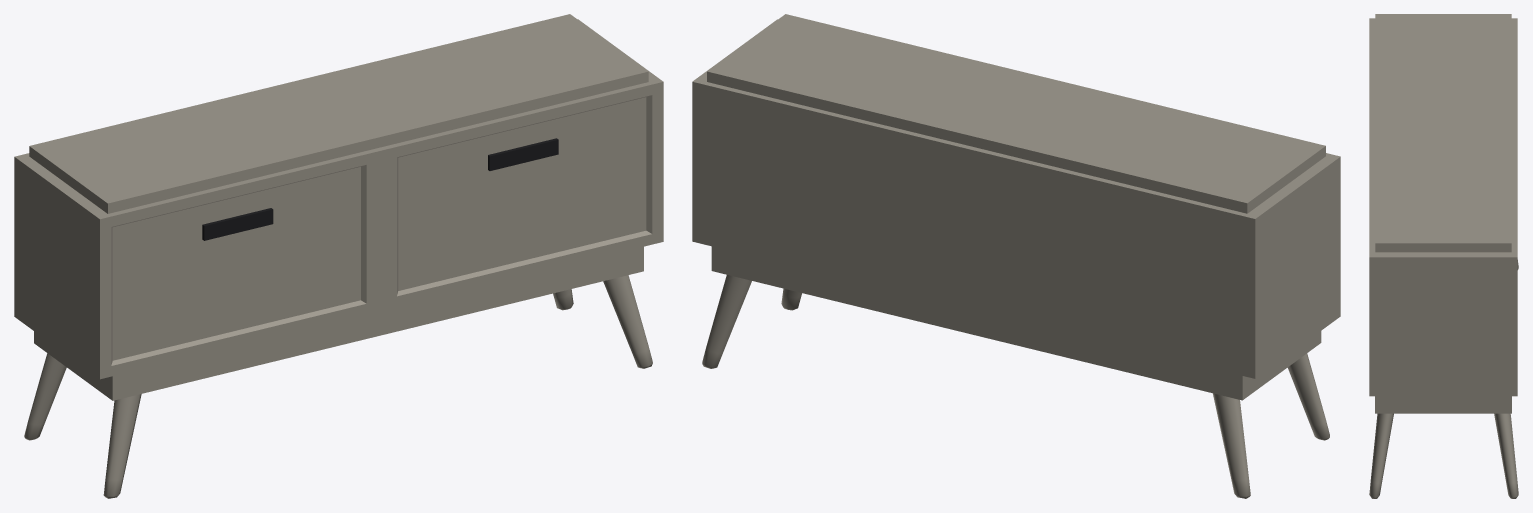
The model's file is pk_sideboard_greywash.glb.
The picture shows the model from 3 angles, left to right: view 1: azimuth 30°, elevation 25°; view 2: azimuth 150°, elevation 25°; view 3: azimuth 270°, elevation 25°; orthographic projection. The views are drawn at different scales.
Parts seen in each view (by area): view 1: pk_sideboard_greywash; view 2: pk_sideboard_greywash; view 3: pk_sideboard_greywash.
Boxes of the visible parts, x1,y1,x2,y2 form: pk_sideboard_greywash: (14,14,663,498); pk_sideboard_greywash: (692,14,1340,498); pk_sideboard_greywash: (1369,14,1518,498).
Size of the model in its own units: 1.7 by 0.85 by 0.45.
Materials: 1 (1 with a texture image).
